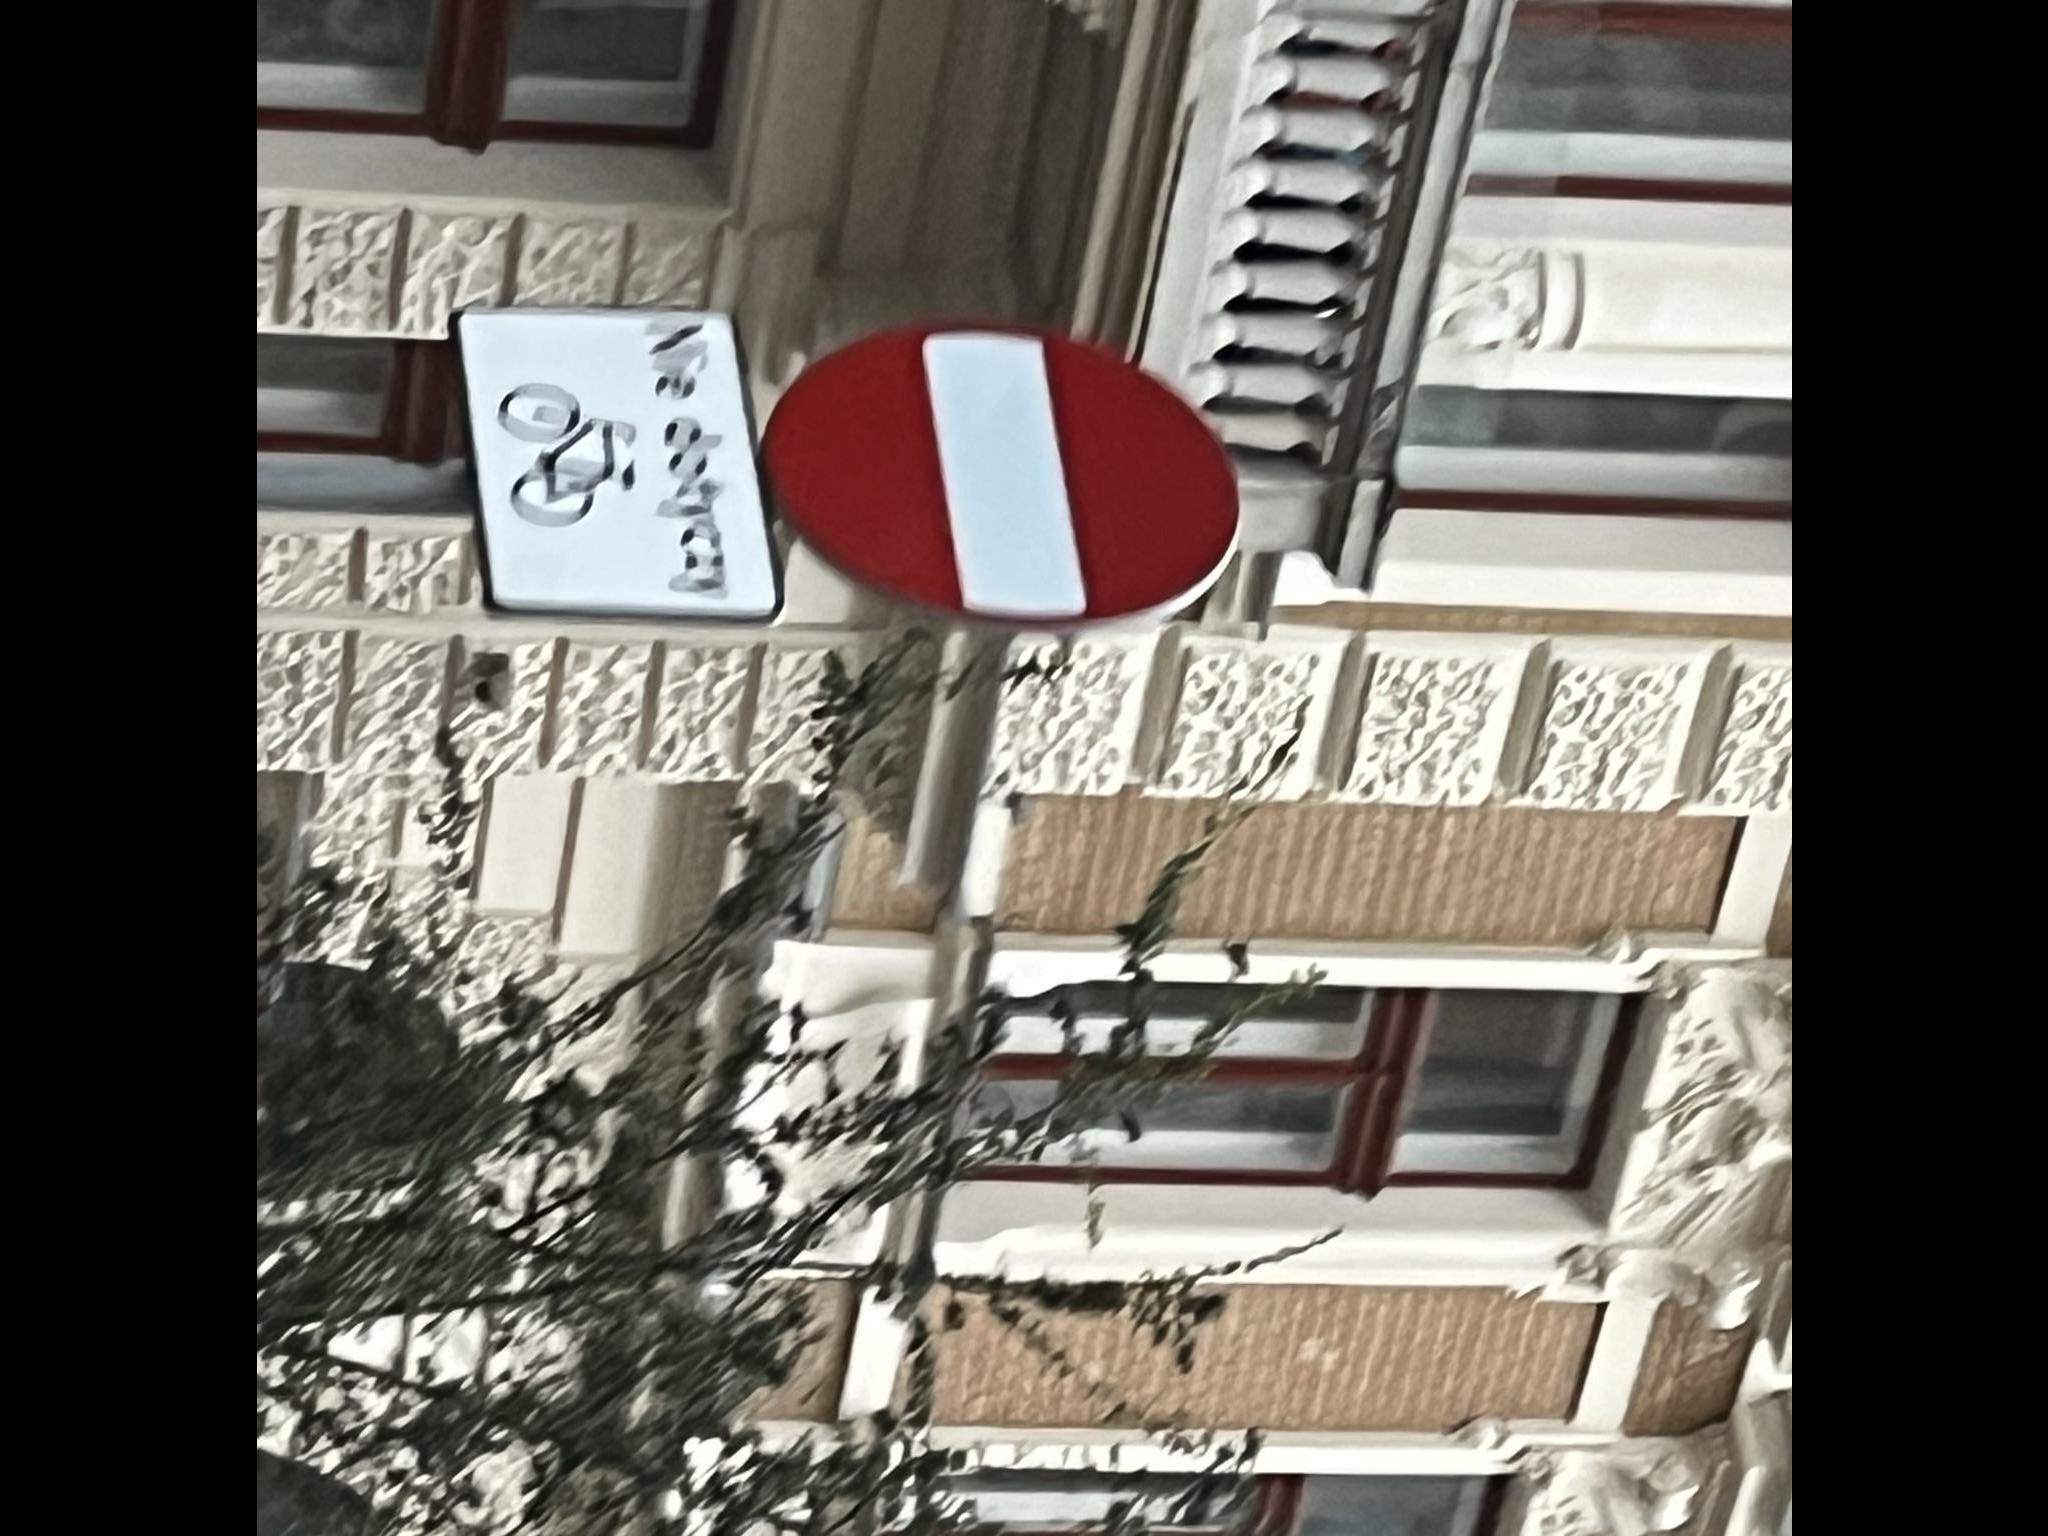other: (448, 300, 789, 629)
prohibitory: (755, 319, 1248, 644)
